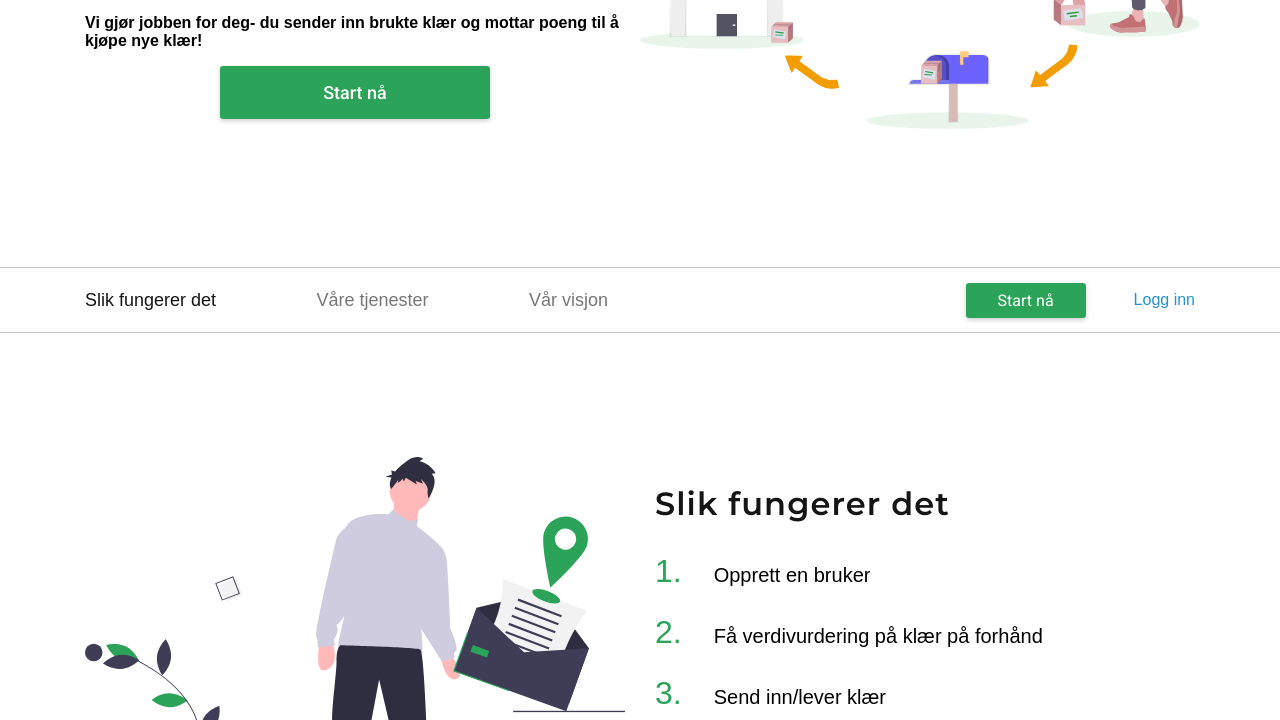
Test: renderDiv when "Vår visjon" button is clicked
This screenshot has width=1280, height=720.
(page scrolled)
Click the text with test id "our-vision".
click(568, 300)  # box [529,290,608,310]
(page scrolled)
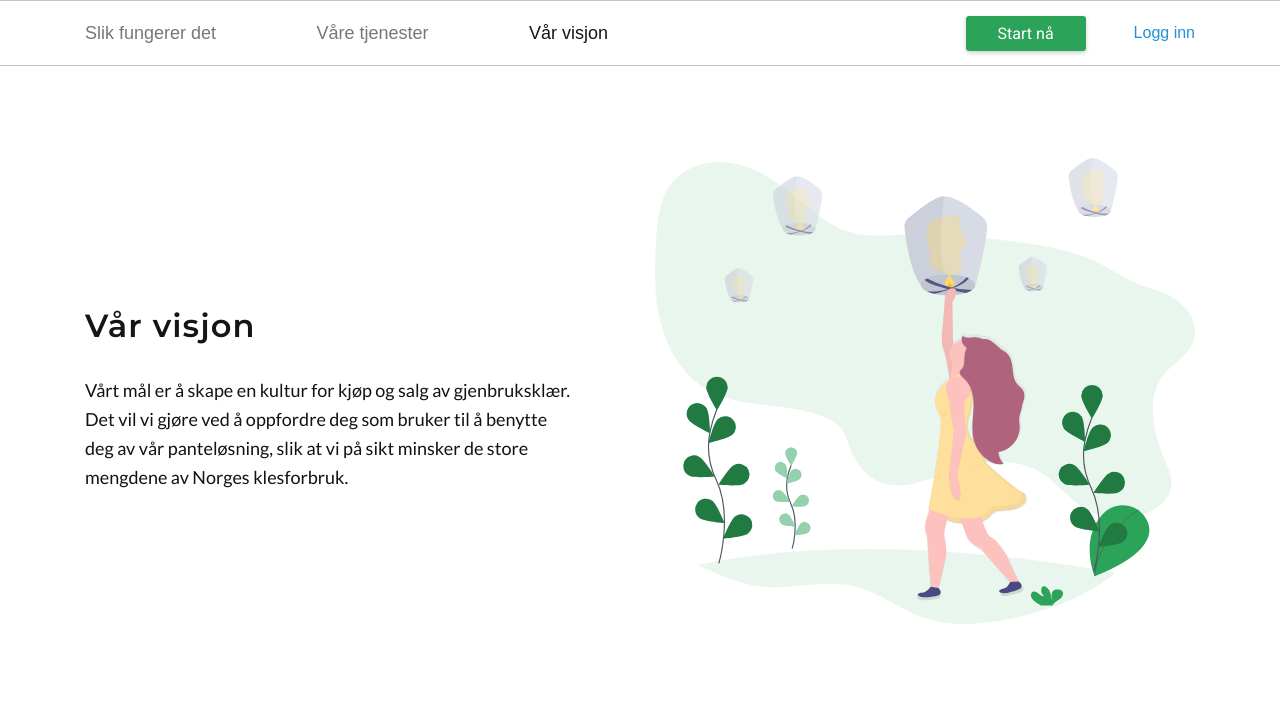
Result: the element with test id "render-div" shows "Vår visjon" at [85,306,256,345]
